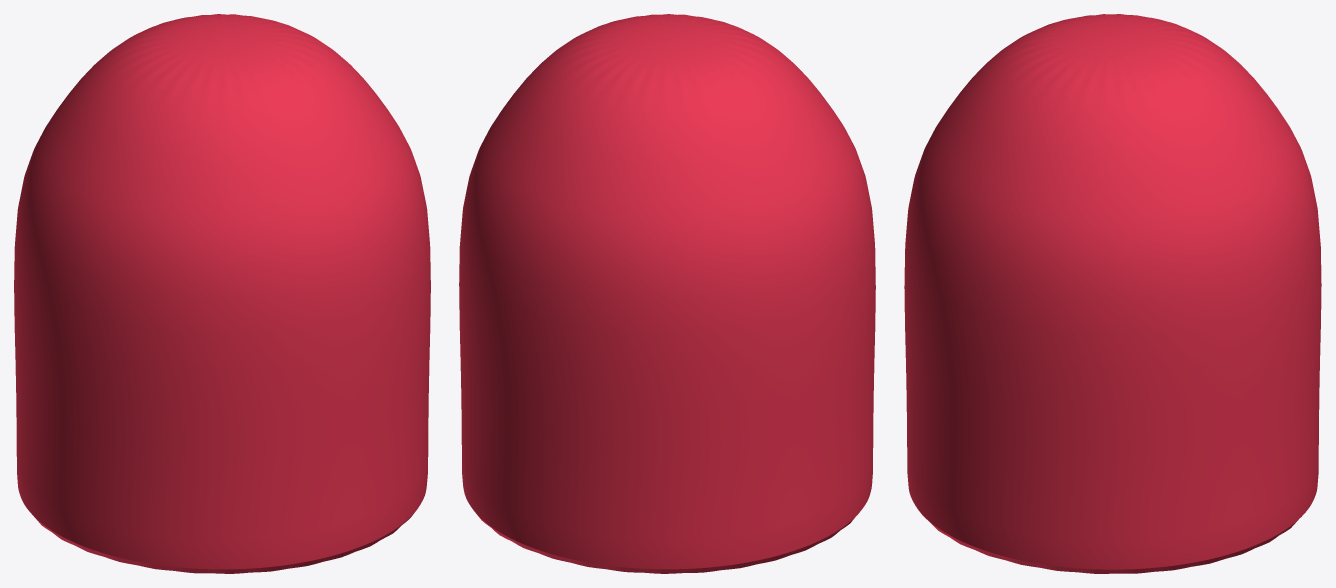
Rendered from body.fbx.
The picture shows the model from 3 angles, left to right: view 1: azimuth 30°, elevation 25°; view 2: azimuth 150°, elevation 25°; view 3: azimuth 270°, elevation 25°; orthographic projection.
Visible parts, largest first — view 1: Cone.002; view 2: Cone.002; view 3: Cone.002.
Boxes of the visible parts, x1,y1,x2,y2 form: Cone.002: (14, 14, 430, 573); Cone.002: (459, 14, 875, 573); Cone.002: (904, 14, 1321, 573).
Bounding box in the file's own units: 86.55 × 105 × 86.55.
